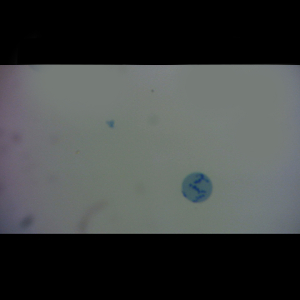aggregate reticulocyte: (181, 172, 213, 203)
